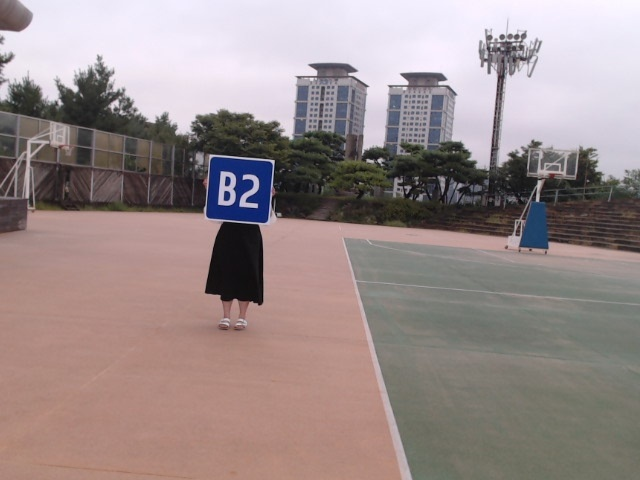delivery_b2: (204, 156, 275, 224)
